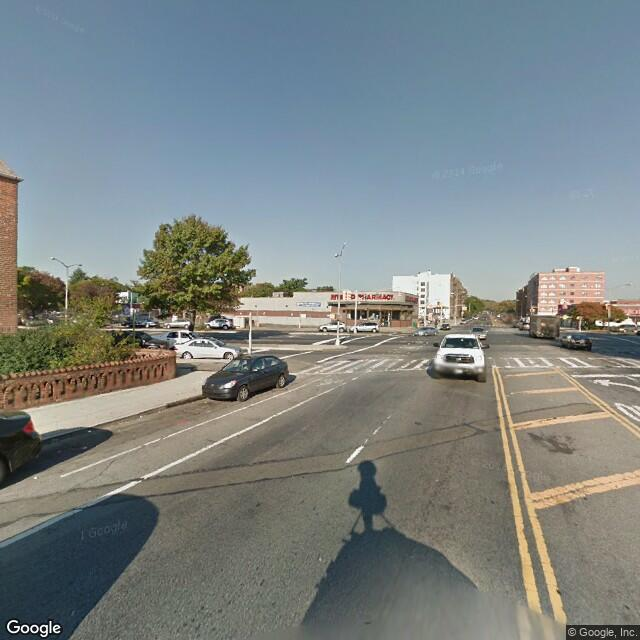litter: (139, 415, 143, 419), (87, 429, 88, 431)
